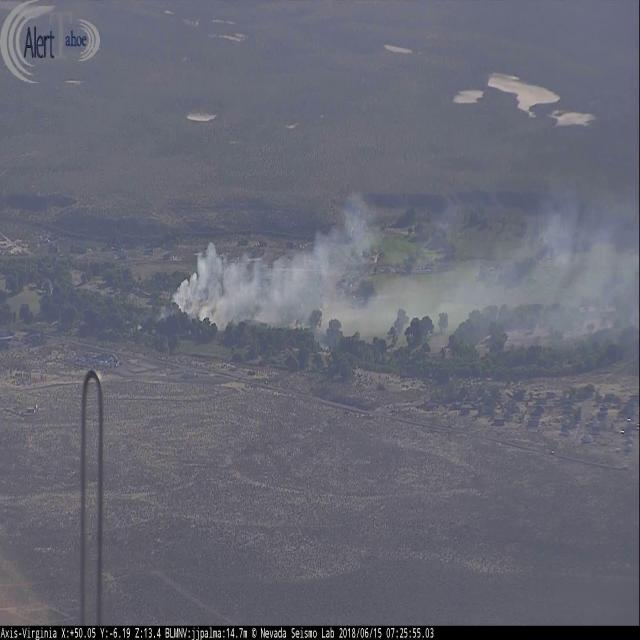smoke: (155, 190, 640, 347)
